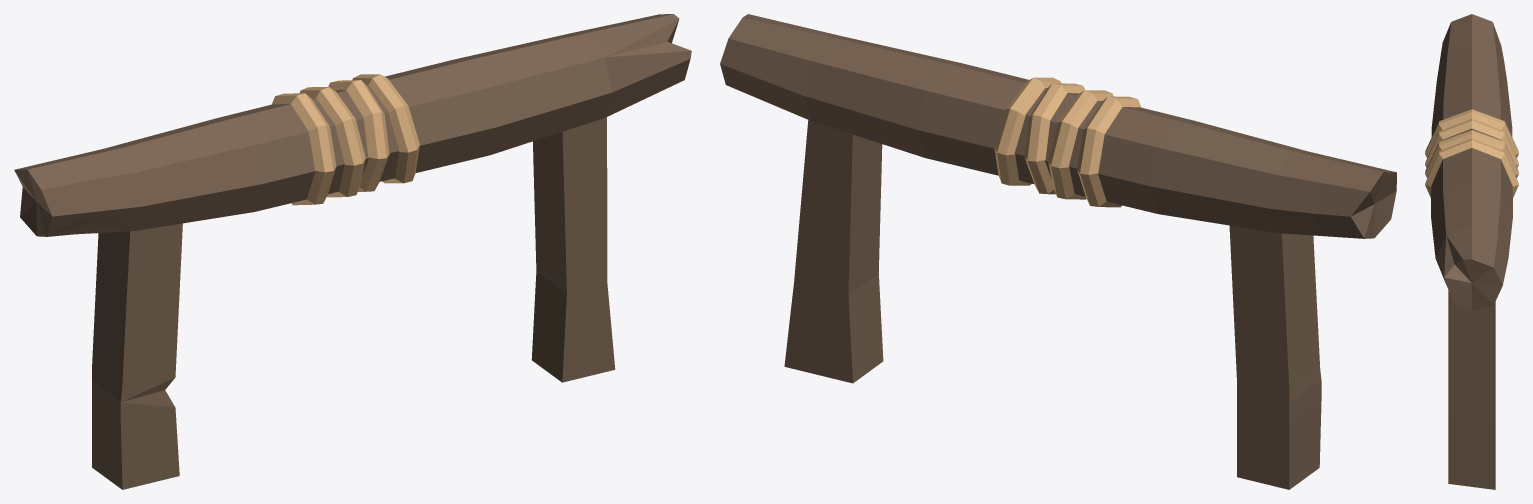
File: Horse_rack.fbx
The picture shows the model from 3 angles, left to right: view 1: azimuth 30°, elevation 25°; view 2: azimuth 150°, elevation 25°; view 3: azimuth 270°, elevation 25°; orthographic projection. The views are drawn at different scales.
Visible parts, largest first — view 1: Horse_rack; view 2: Horse_rack; view 3: Horse_rack.
Part boxes in pixels (x1,y1,x2,y2): Horse_rack: (14,14,691,489); Horse_rack: (720,14,1396,489); Horse_rack: (1425,14,1518,489).
Size of the model in its own units: 170 by 27.61 by 84.59.
